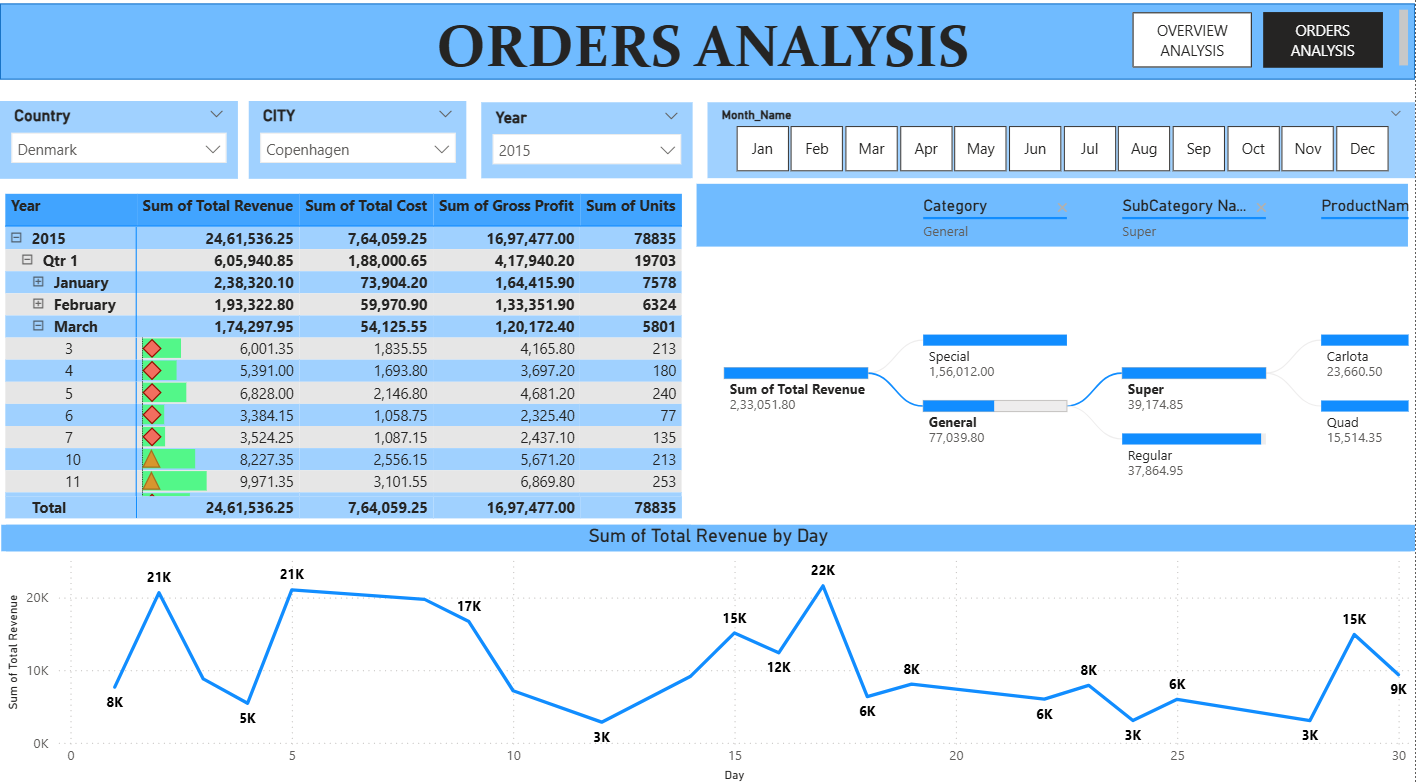

Layout of this report page (visuals, bound fields, positions):
{"tool":"powerbi","page":{"name":"ORDERS ANALYSIS","canvas":[1280,720],"ordinal":1},"visuals":[{"type":"slicer","fields":{"Values":["Date Master.Year"]},"box":[435,101,191,69],"z":0},{"type":"textbox","box":[0,11,1280,69],"z":1000},{"type":"slicer","fields":{"Values":["Geography.CITY"]},"box":[225,100,197,70],"z":2000},{"type":"slicer","fields":{"Values":["Geography.Country"]},"box":[0,100,215,70],"z":3000},{"type":"slicer","fields":{"Values":["Date Master.Month_Name"]},"box":[640,101,640,69],"z":4000},{"type":"lineChart","fields":{"Category":["Date Master.Date.Variation.Date Hierarchy.Year","Date Master.Date.Variation.Date Hierarchy.Quarter","Date Master.Date.Variation.Date Hierarchy.Month","Date Master.Date.Variation.Date Hierarchy.Day"],"Y":["FINAL SALES.Total Revenue"]},"box":[1.2,482.6,1279.1,237.2],"z":5000},{"type":"pivotTable","fields":{"Rows":["Date Master.Date.Variation.Date Hierarchy.Year","Date Master.Date.Variation.Date Hierarchy.Quarter","Date Master.Date.Variation.Date Hierarchy.Month","Date Master.Date.Variation.Date Hierarchy.Day"],"Values":["FINAL SALES.Total Revenue","FINAL SALES.Total Cost","FINAL SALES.Gross Profit","FINAL SALES.Units"]},"box":[0,179.1,605.8,303.5],"z":6000},{"type":"decompositionTreeVisual","fields":{"Analyze":["FINAL SALES.Total Revenue"],"ExplainBy":["Categories.Category","SubCategory.SubCategory Name","Product.ProductName"]},"box":[584.9,169.8,694.2,312.8],"z":7000},{"type":"pageNavigator","box":[1024.4,19.8,227.9,50],"z":8000}]}

Visuals, with their boxes in screenshot pixels (x1, y1, x2, y2), scaled from the page's 1280x720 canvas onto the 1416x783 screenshot:
slicer - Date Master.Year: [481, 110, 693, 185]
textbox: [0, 12, 1415, 87]
slicer - Geography.CITY: [249, 109, 467, 185]
slicer - Geography.Country: [0, 109, 238, 185]
slicer - Date Master.Month_Name: [708, 110, 1415, 185]
lineChart - Date Master.Date.Variation.Date Hierarchy.Year x Date Master.Date.Variation.Date Hierarchy.Quarter: [1, 525, 1415, 782]
pivotTable - Date Master.Date.Variation.Date Hierarchy.Year x Date Master.Date.Variation.Date Hierarchy.Quarter: [0, 195, 670, 525]
decompositionTreeVisual - FINAL SALES.Total Revenue x Categories.Category: [647, 185, 1415, 525]
pageNavigator: [1133, 22, 1385, 76]
